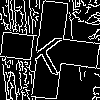K: (25, 25, 65, 75)
